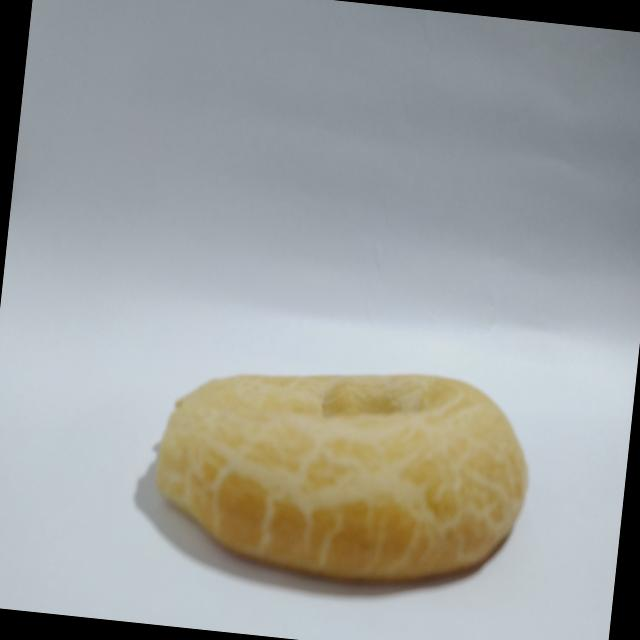Chipa: (128, 320, 546, 604)
